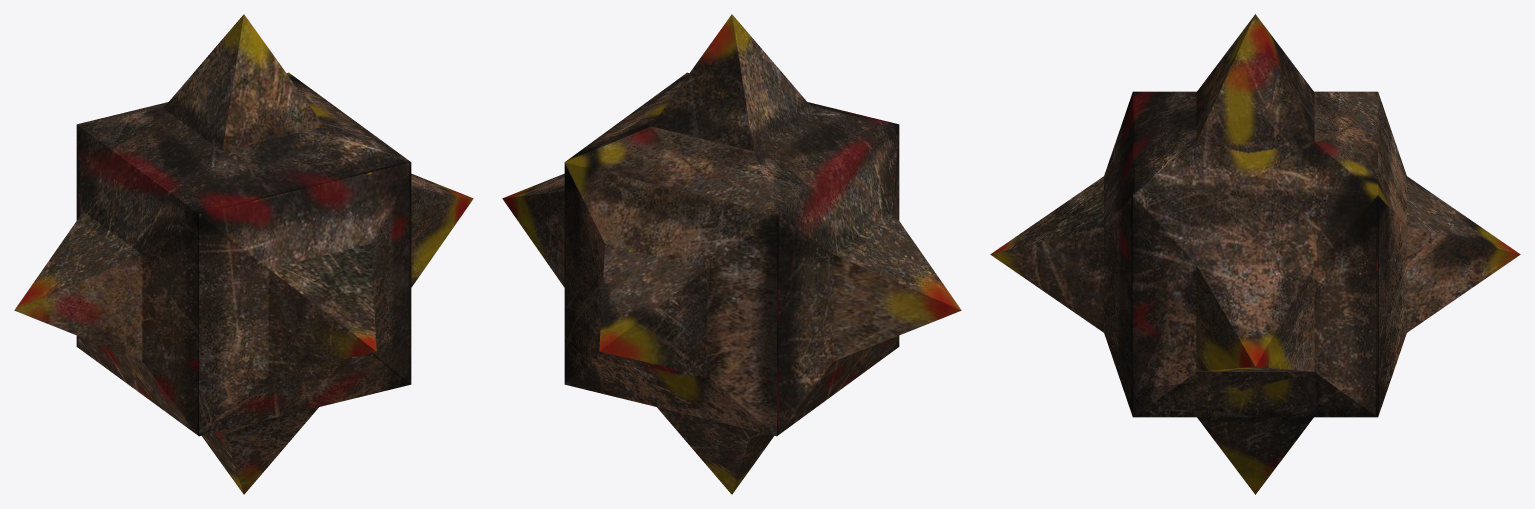
The model's file is pinchos2.fbx.
The picture shows the model from 3 angles, left to right: view 1: azimuth 30°, elevation 25°; view 2: azimuth 150°, elevation 25°; view 3: azimuth 270°, elevation 25°; orthographic projection.
Visible parts, largest first — view 1: pinchos; view 2: pinchos; view 3: pinchos.
Boxes of the visible parts, x1,y1,x2,y2 form: pinchos: [14, 14, 473, 494]; pinchos: [502, 14, 961, 494]; pinchos: [990, 14, 1520, 494].
Bounding box in the file's own units: 433 × 433 × 433.
1 material, 1 textured.
